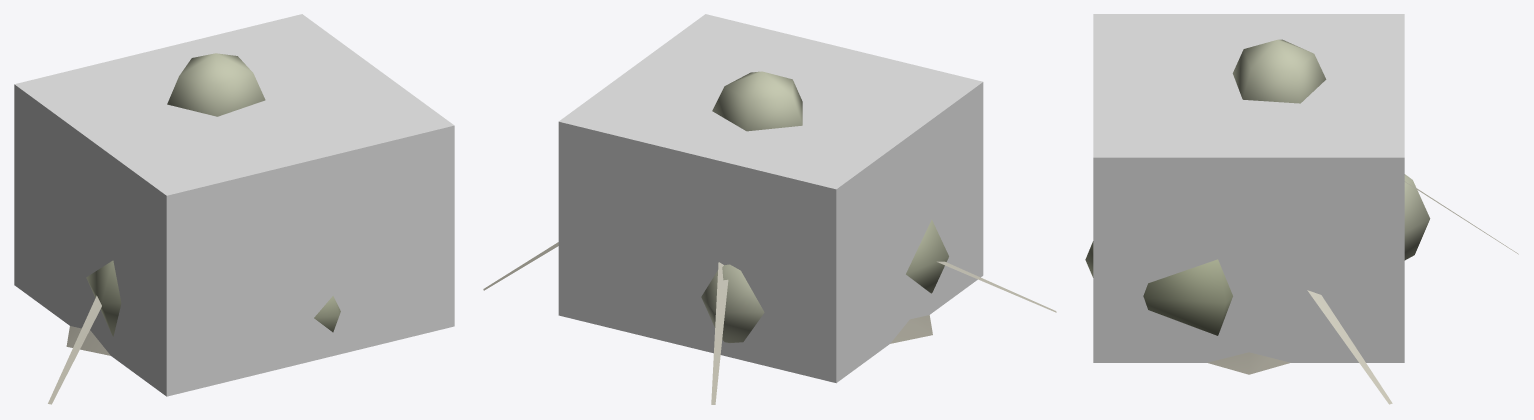
Rendered from egg_sacs.glb.
3 renders of one model, left to right at view 1: azimuth 30°, elevation 25°; view 2: azimuth 150°, elevation 25°; view 3: azimuth 270°, elevation 25°, orthographic. The views are drawn at different scales.
Visible parts, largest first — view 1: COL_eggs, egg_sacs; view 2: COL_eggs, egg_sacs; view 3: COL_eggs, egg_sacs.
Part boxes in pixels (x1,y1,x2,y2): COL_eggs: (14,14,454,396); egg_sacs: (48,53,340,404); COL_eggs: (558,14,983,383); egg_sacs: (483,71,1056,404); COL_eggs: (1093,14,1404,362); egg_sacs: (1085,39,1518,404).
Size of the model in its own units: 1.96 by 0.978 by 1.53.
